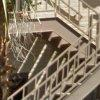stairs: (49, 54, 100, 99)
